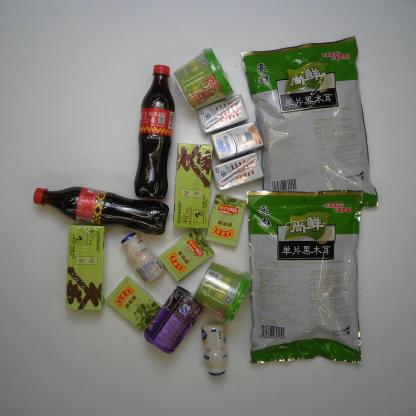Candy: (105, 274, 162, 332), (157, 226, 214, 282), (206, 191, 248, 248)
Canned Food: (144, 284, 204, 355)
Dried Food: (239, 36, 382, 210), (243, 187, 368, 367)
Drink: (30, 183, 171, 234), (132, 63, 176, 199)
Instant Drink: (172, 143, 219, 231), (63, 225, 109, 312), (193, 260, 252, 327), (173, 46, 233, 110)
Milk: (209, 120, 264, 161), (120, 232, 164, 282), (213, 151, 266, 191), (199, 94, 250, 134), (200, 323, 229, 376)
